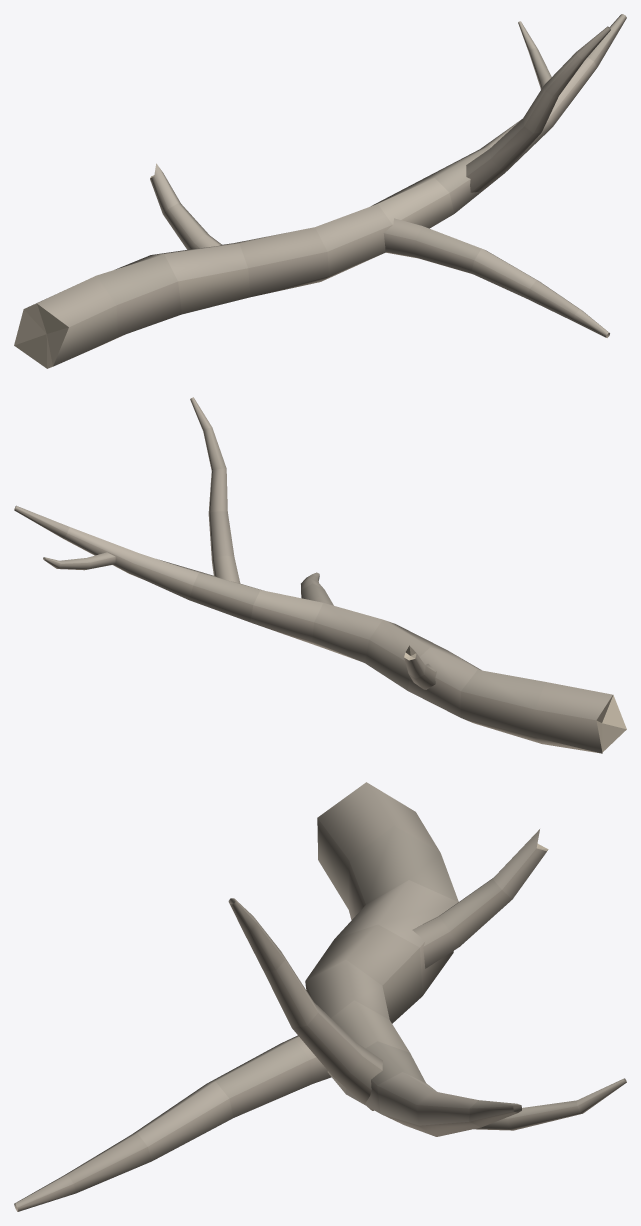
File: DriftwoodBranch_bark.glb
3 renders of one model, top to bottom at view 1: azimuth 30°, elevation 25°; view 2: azimuth 150°, elevation 25°; view 3: azimuth 270°, elevation 25°, orthographic. The views are drawn at different scales.
Visible parts, largest first — view 1: DriftwoodBranch_bark; view 2: DriftwoodBranch_bark; view 3: DriftwoodBranch_bark.
Part boxes in pixels (x1,y1,x2,y2): DriftwoodBranch_bark: (14, 14, 626, 368); DriftwoodBranch_bark: (14, 397, 626, 753); DriftwoodBranch_bark: (14, 782, 626, 1211).
Bounding box in the file's own units: 8.88 × 3.29 × 4.83.
